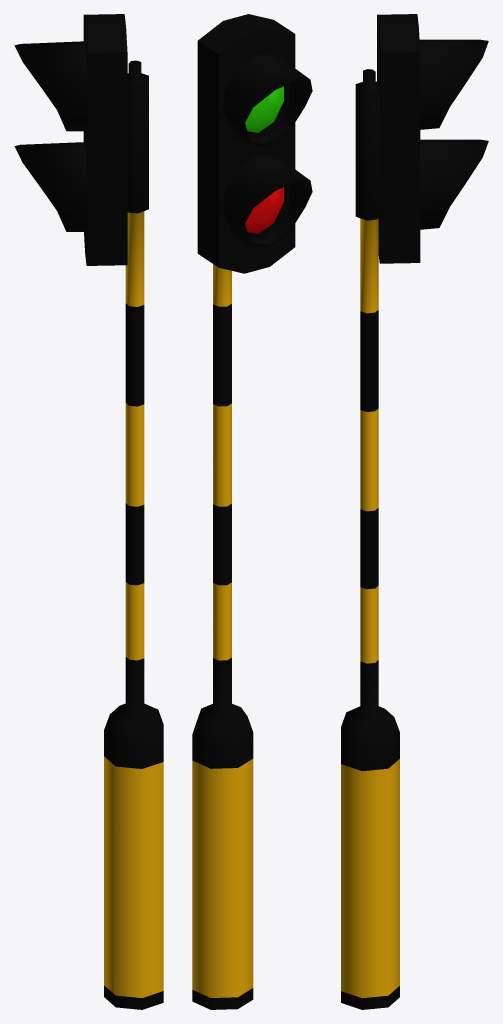
The model's file is trafficlight3.FBX.
The picture shows the model from 3 angles, left to right: view 1: azimuth 90°, elevation 25°; view 2: azimuth 210°, elevation 25°; view 3: azimuth 270°, elevation 25°; orthographic projection.
Visible parts, largest first — view 1: Object002; view 2: Object002; view 3: Object002.
Boxes of the visible parts, x1,y1,x2,y2 form: Object002: (14, 14, 163, 1009); Object002: (192, 14, 312, 1009); Object002: (341, 14, 488, 1009).
Bounding box in the file's own units: 29.28 × 343 × 47.34.
